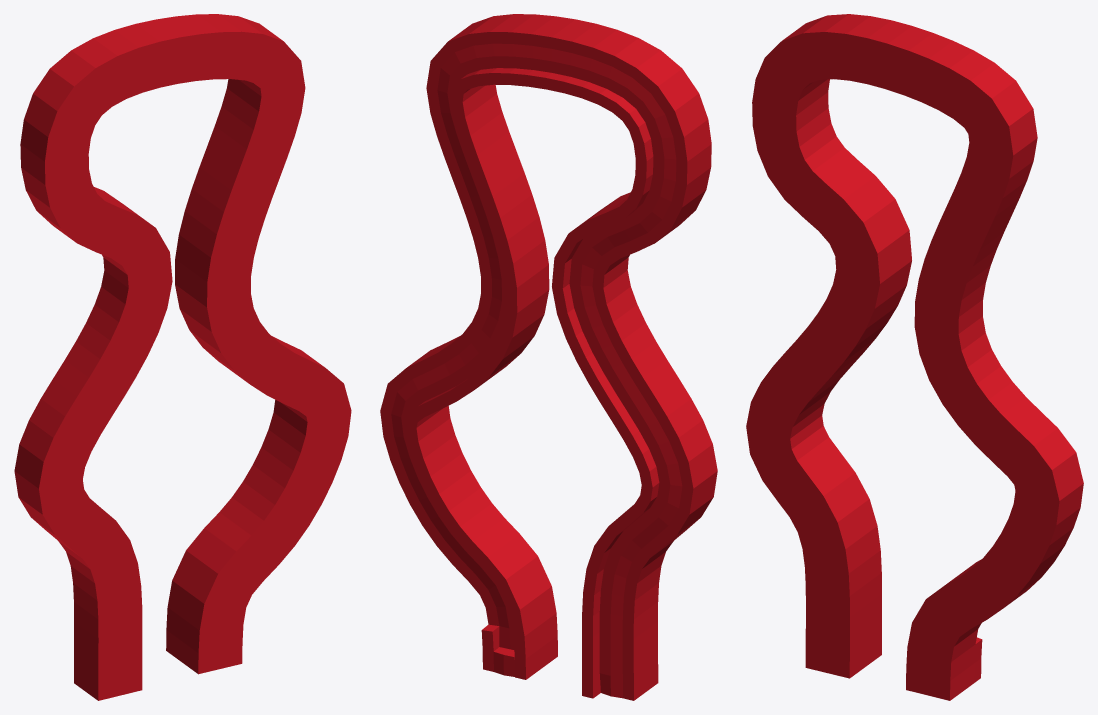
File: Stage1.fbx
The picture shows the model from 3 angles, left to right: view 1: azimuth 30°, elevation 25°; view 2: azimuth 150°, elevation 25°; view 3: azimuth 330°, elevation 25°; orthographic projection.
Parts seen in each view (by area): view 1: Cube; view 2: Cube; view 3: Cube.
Part boxes in pixels (box(x1,y1,x2,y2)): Cube: box(14, 14, 351, 700); Cube: box(380, 14, 717, 700); Cube: box(746, 14, 1083, 700).
Bounding box in the file's own units: 708 × 1393 × 128.
